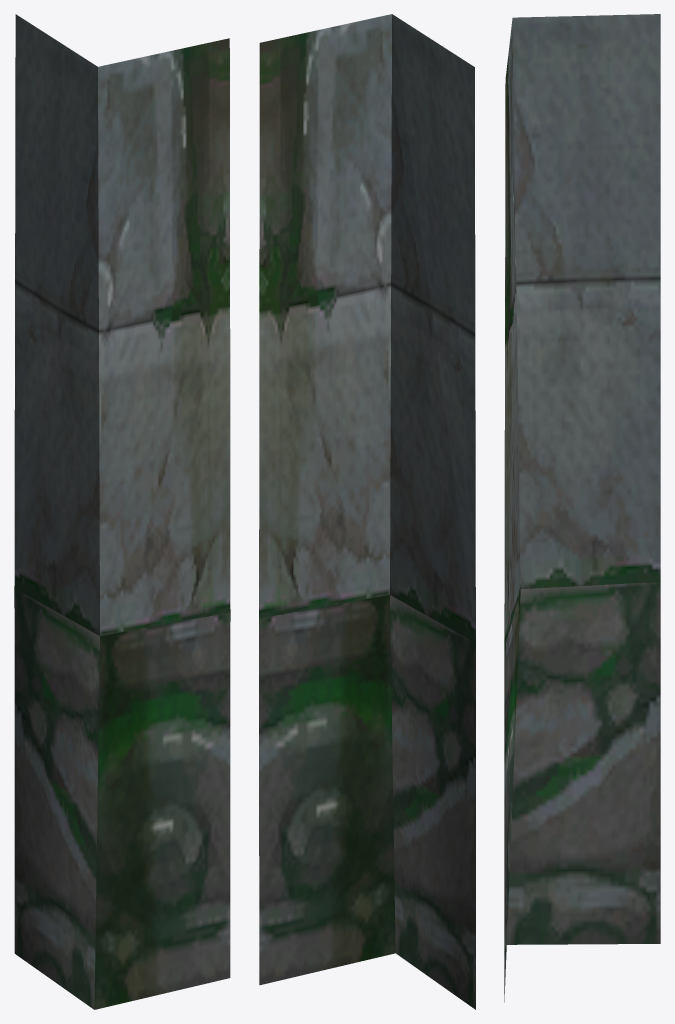
File: stemple_half_convex_04.fbx
3 views of the same model, side by side, from view 1: azimuth 30°, elevation 25°; view 2: azimuth 210°, elevation 25°; view 3: azimuth 270°, elevation 25° (orthographic).
Parts seen in each view (by area): view 1: stemple_half_convex_04-0; view 2: stemple_half_convex_04-0; view 3: stemple_half_convex_04-0.
Boxes of the visible parts, box(x1,y1,x2,y2) form: stemple_half_convex_04-0: box(14, 14, 230, 1009); stemple_half_convex_04-0: box(259, 14, 475, 1009); stemple_half_convex_04-0: box(504, 14, 660, 1002).
Size of the model in its own units: 0.42 by 2.75 by 0.4195.
